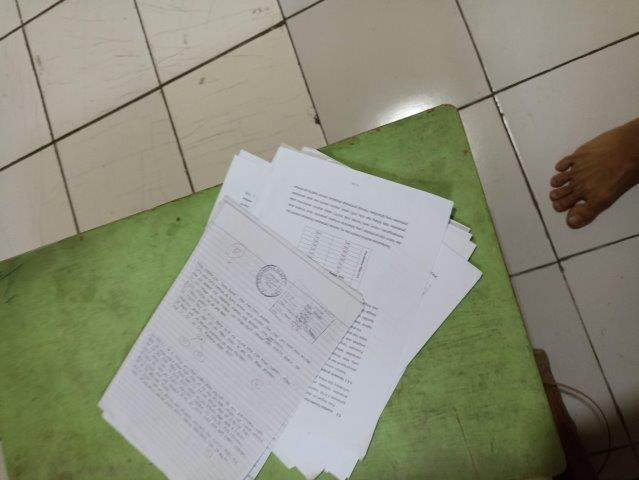kertas: (97, 145, 482, 480)
